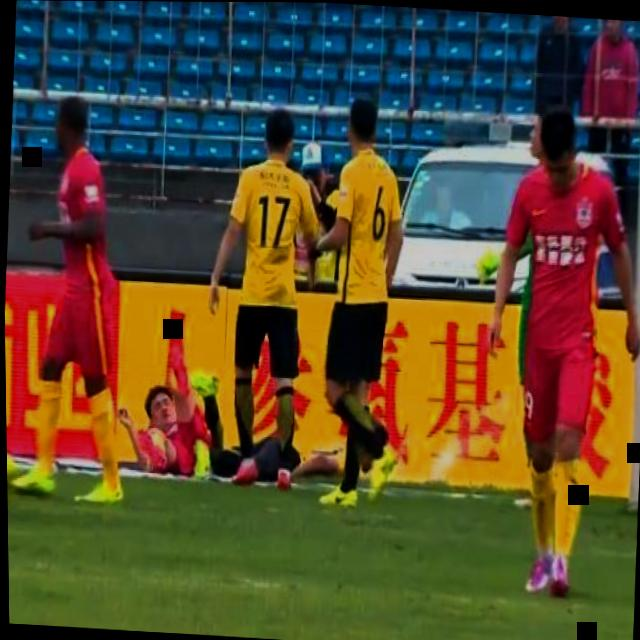Fall-Detected: (106, 366, 221, 482)
